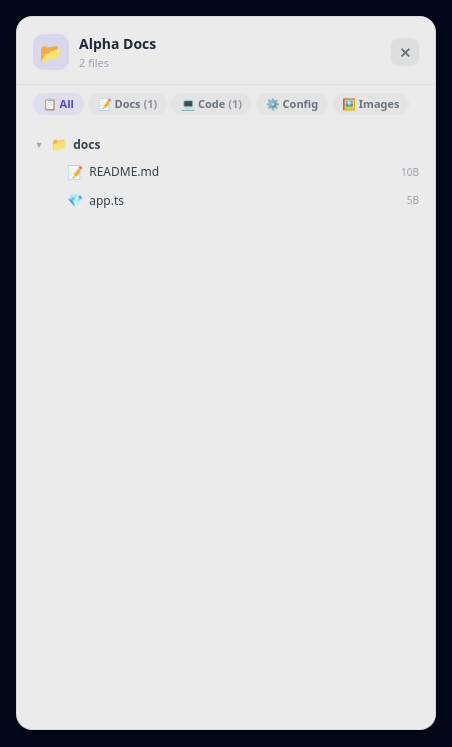
Test: ProjectDocsPanel › opens code file and renders preformatted content
Check: the text "README.md" is shown, box [89,163,159,180]
Click the text "app.ts" at (107, 200), box [89,192,124,209]
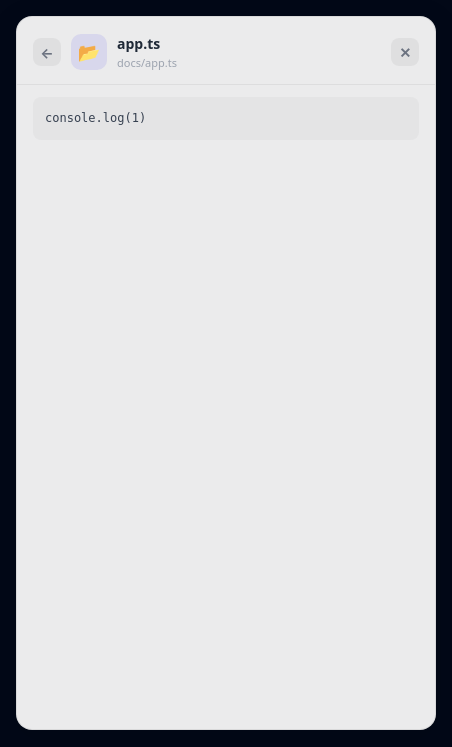
Check: the text "console.log(1)" is shown, box [33,96,419,140]
